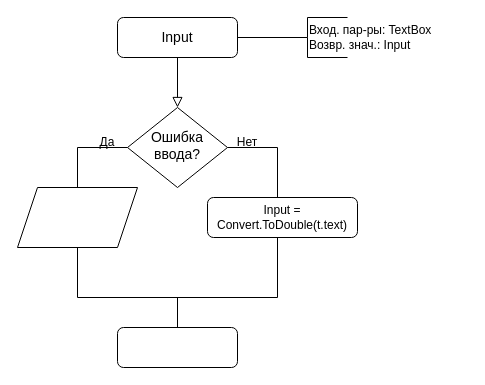
Some shapes in this 485 by 385 pixel diagram are drawn without their labels. The centre of each missing label's shape, as x and y in pixels:
"Вывод сообщения об ошибке" goes at point 77,217.
"Конец" goes at point 177,347.
